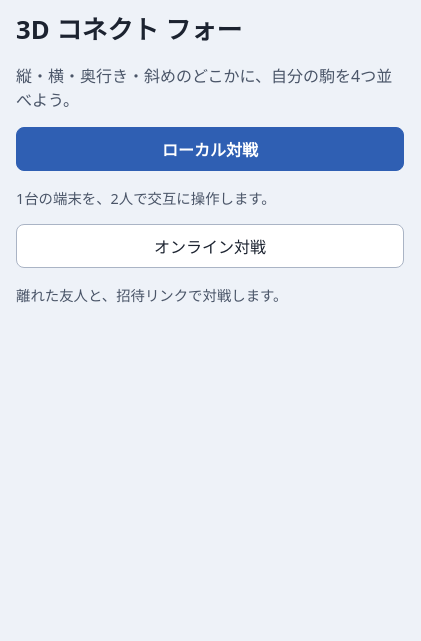
Test: オンライン対戦の画面 › 存在しないコード・満員では、エラーを表示する
Later steps or results of the test are not shown.
Click the button "オンライン対戦" at [210, 246], box [16, 224, 404, 268]
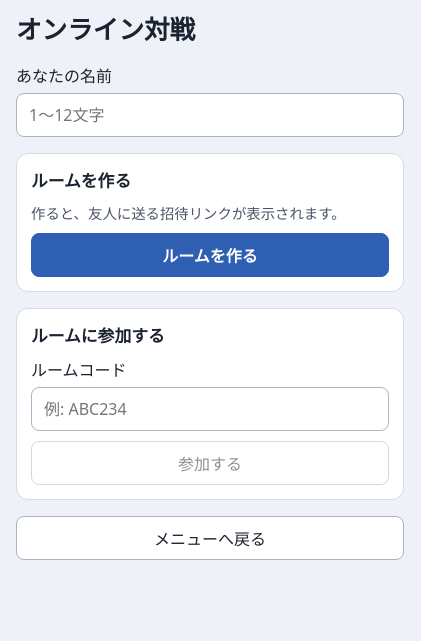
Type "まい" into the field labelled "あなたの名前" at [210, 115], box [16, 93, 404, 137]
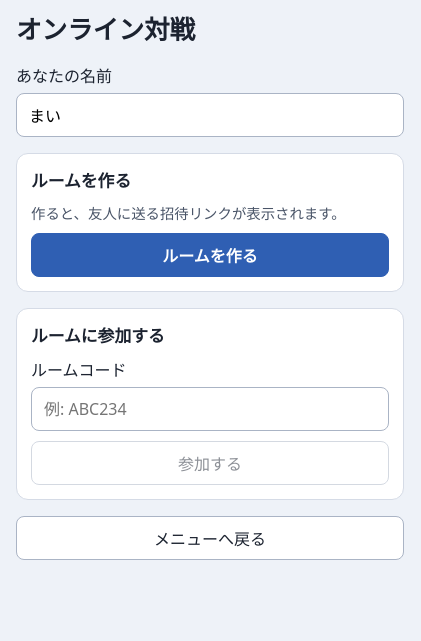
Type "ZZZZZZ" into the field labelled "ルームコード" at [210, 409], box [31, 387, 389, 431]
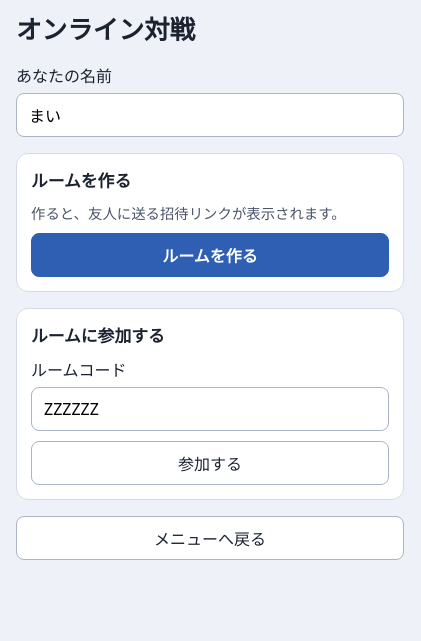
Click the button "参加する" at [210, 463], box [31, 441, 389, 485]
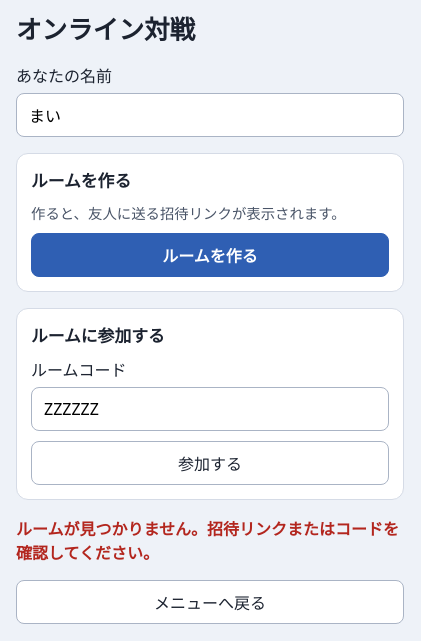
Expected: the message shows "ルームが見つかりません", [16, 518, 399, 564]
